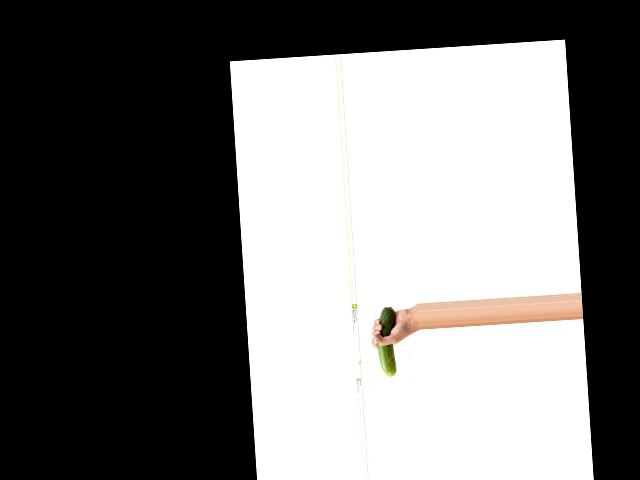cucumber: (374, 307, 398, 377)
